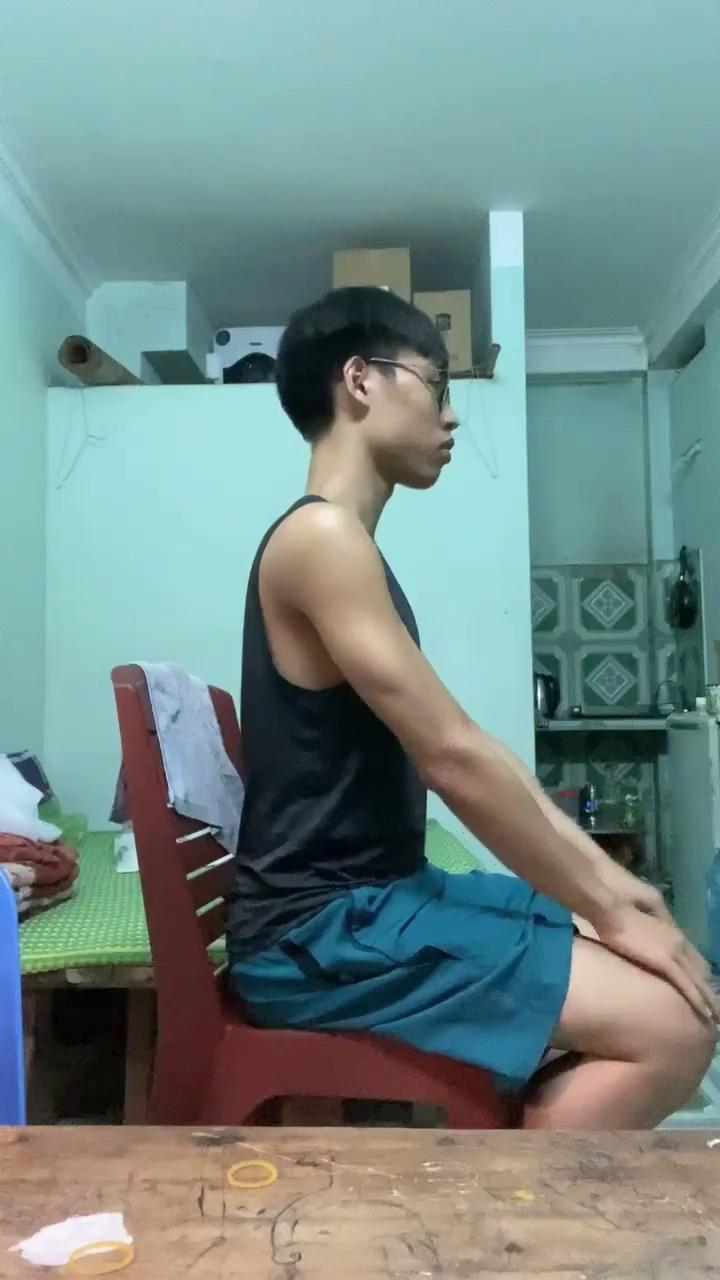GoodPosture: (259, 288, 719, 1130)
